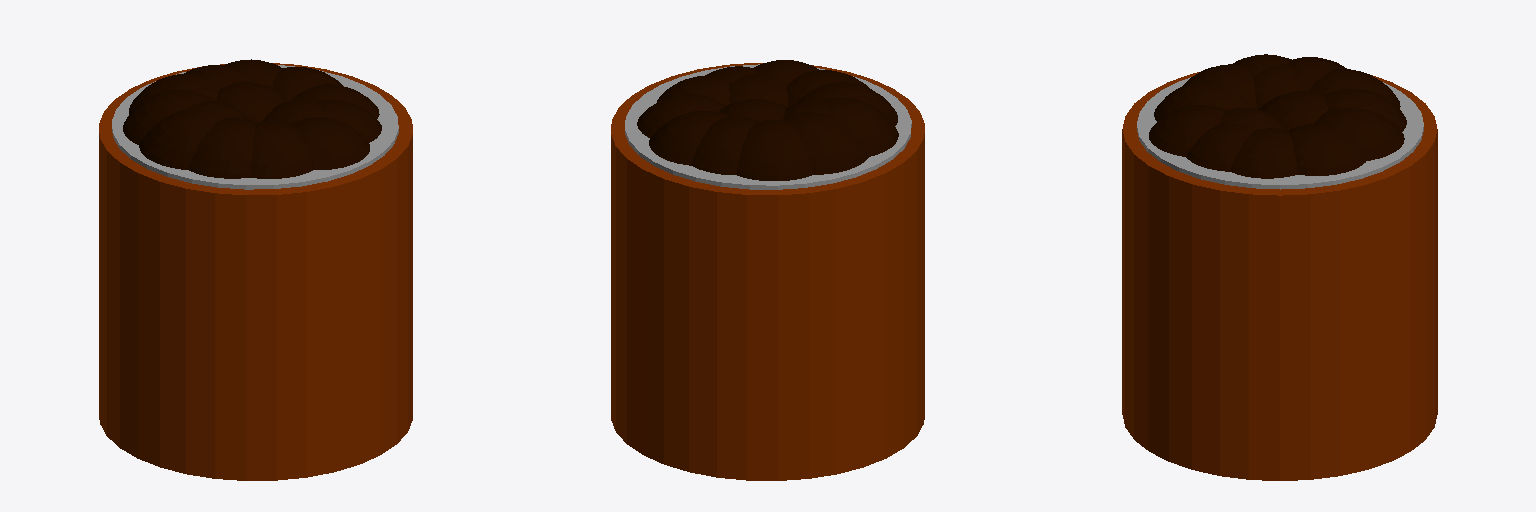
File: Dinner.obj
The picture shows the model from 3 angles: view 1: azimuth 30°, elevation 25°; view 2: azimuth 150°, elevation 25°; view 3: azimuth 270°, elevation 25°; orthographic projection.
Visible parts, largest first — view 1: Cylinder, Cylinder.002_Cylinder.003, Sphere.005, Sphere.006, Sphere, Sphere.004, Sphere.013, Sphere.002, Sphere.007, Sphere.012, Sphere.009, Sphere.008 (+4 smaller); view 2: Cylinder, Cylinder.002_Cylinder.003, Sphere.012, Sphere.013, Sphere.011, Sphere.010, Sphere.006, Sphere.009, Sphere.003, Sphere.005, Sphere.008, Sphere (+2 smaller); view 3: Cylinder, Cylinder.002_Cylinder.003, Sphere.009, Sphere.010, Sphere.008, Sphere.004, Sphere.007, Sphere, Sphere.002, Sphere.011, Sphere.012, Sphere.001 (+4 smaller).
Part boxes in pixels (x1,y1,x2,y2): Cylinder: (99,63,412,480); Cylinder.002_Cylinder.003: (112,65,398,189); Sphere.005: (188,118,255,178); Sphere.006: (139,109,224,169); Sphere: (250,121,312,178); Sphere.004: (290,117,369,169); Sphere.013: (123,90,216,144); Sphere.002: (216,82,288,122); Sphere.007: (317,100,381,142); Sphere.012: (129,74,219,114); Sphere.009: (272,67,342,100); Sphere.008: (291,84,379,118); Cylinder: (611,63,924,480); Cylinder.002_Cylinder.003: (625,64,911,189); Sphere.012: (737,119,812,180); Sphere.013: (782,112,868,174); Sphere.011: (691,117,758,174); Sphere.010: (649,111,727,165); Sphere.006: (825,98,898,156); Sphere.009: (637,94,725,137); Sphere.003: (729,73,787,107); Sphere.005: (796,82,897,125); Sphere.008: (657,75,729,105); Sphere: (787,70,868,107); Cylinder: (1122,72,1437,480); Cylinder.002_Cylinder.003: (1137,77,1423,189); Sphere.009: (1288,124,1366,175); Sphere.010: (1314,108,1404,160); Sphere.008: (1230,128,1297,178); Sphere.004: (1149,105,1225,156); Sphere.007: (1186,123,1257,171); Sphere: (1154,81,1255,121); Sphere.002: (1258,91,1327,130); Sphere.011: (1324,89,1406,131); Sphere.012: (1308,69,1400,108); Sphere.001: (1253,64,1300,108).
Bounding box in the file's own units: 2 × 2.29 × 2.